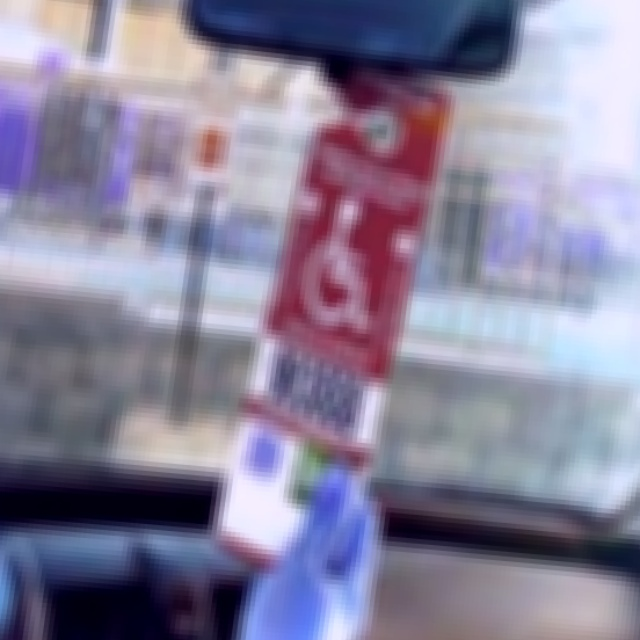ISA: (300, 186, 386, 331)
